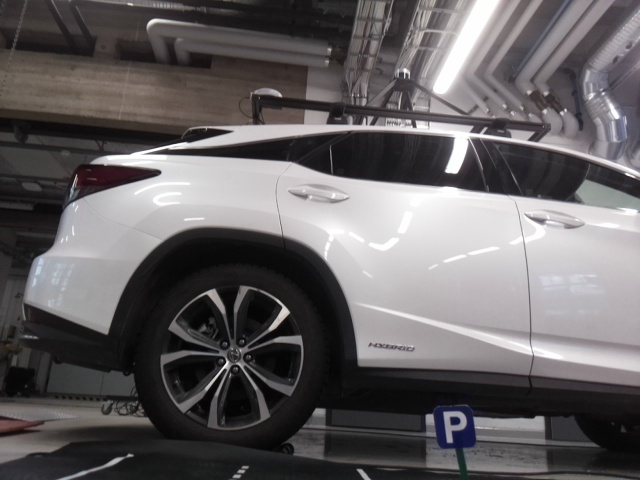Parking: (431, 404, 476, 446)
